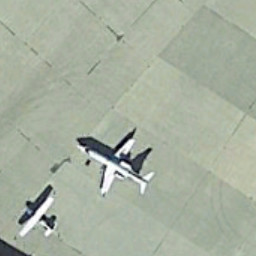Airplane: (73, 122, 175, 202), (9, 179, 66, 246)
